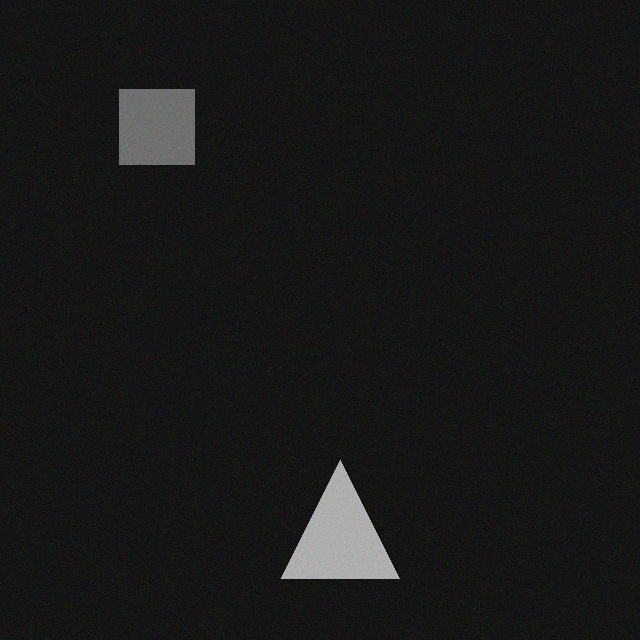square: (119, 84, 194, 159)
triangle: (281, 455, 399, 573)
